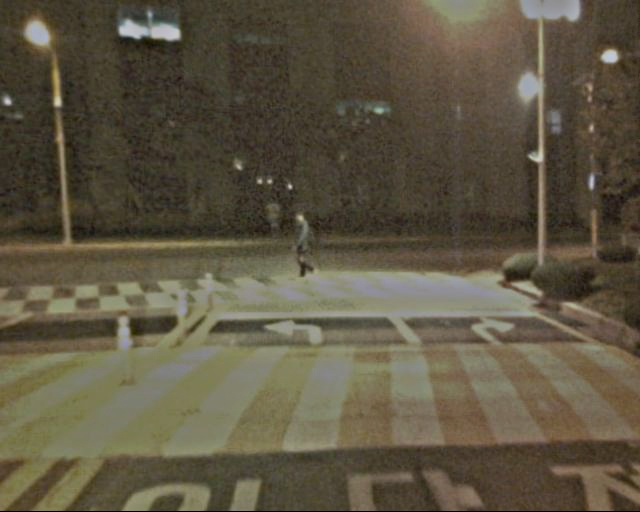person: (287, 212, 319, 291)
